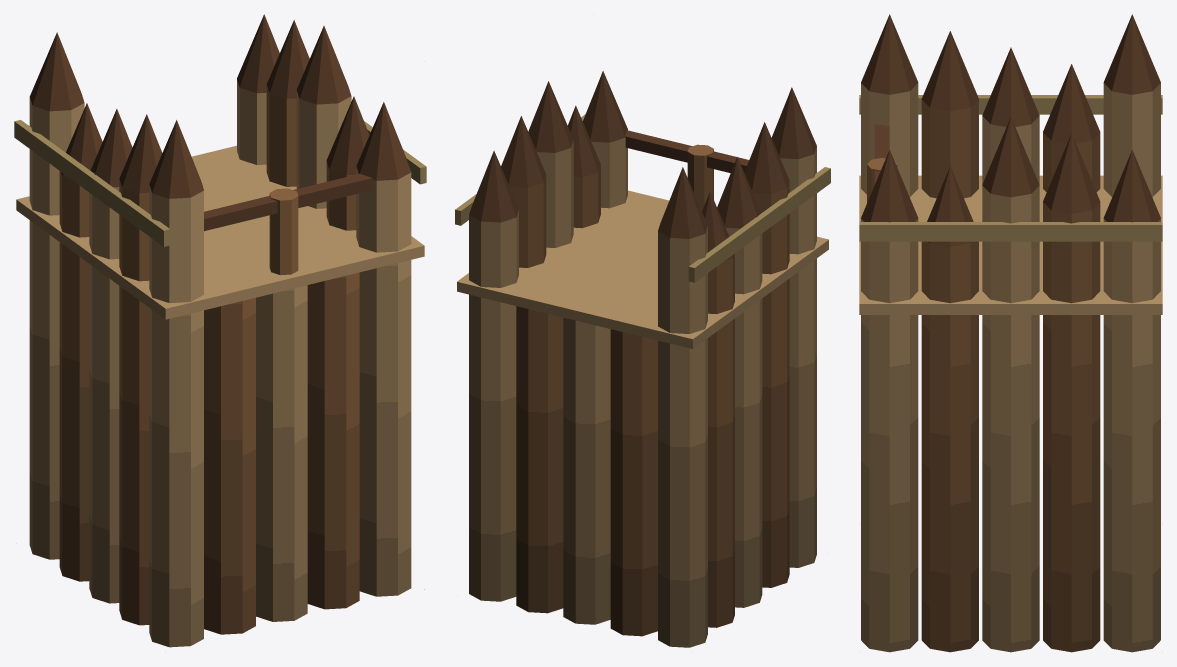
Rendered from perimeter_wall_wood_f1.glb.
3 views of the same model, side by side, from view 1: azimuth 30°, elevation 25°; view 2: azimuth 150°, elevation 25°; view 3: azimuth 270°, elevation 25° (orthographic). The views are drawn at different scales.
Size of the model in its own units: 2.03 by 3.9 by 2.
Materials: 1 (1 with a texture image).
